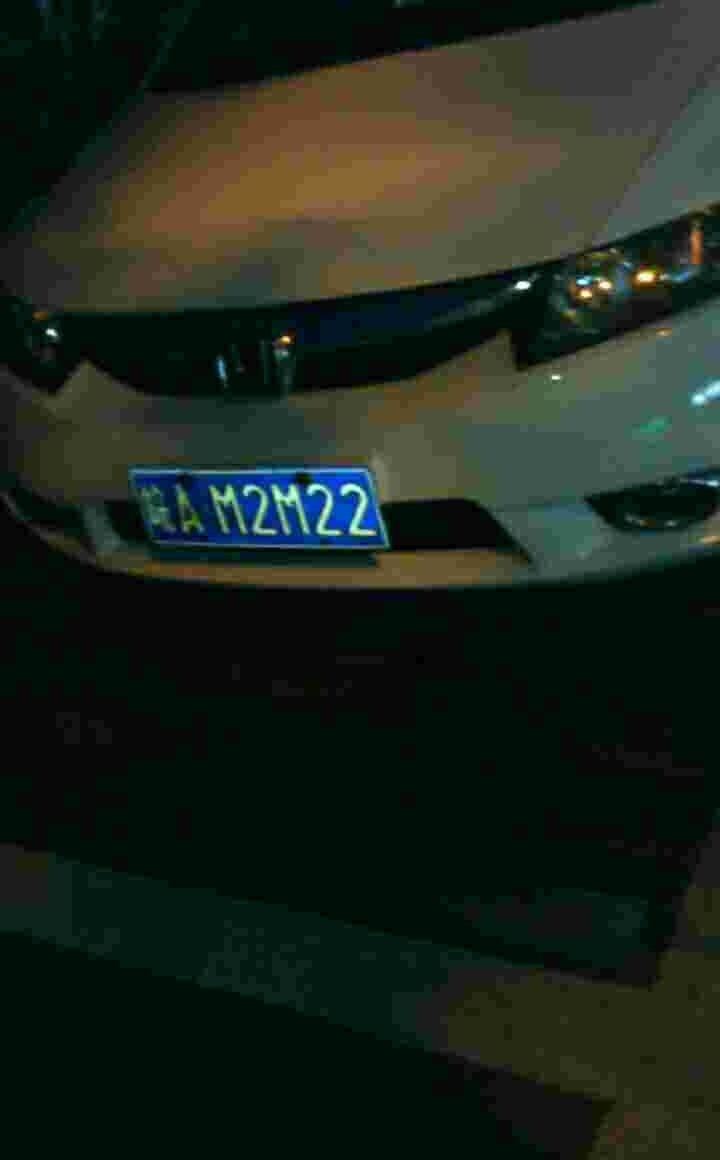plate: (122, 466, 395, 552)
